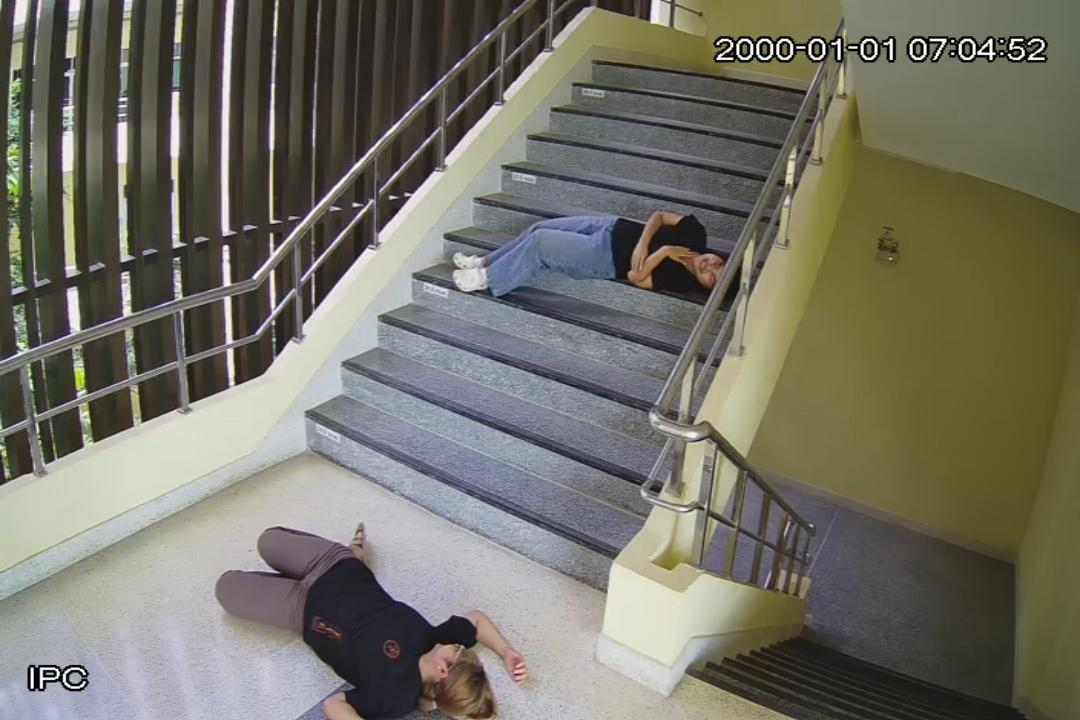fall: (213, 525, 528, 720), (454, 210, 723, 295)
